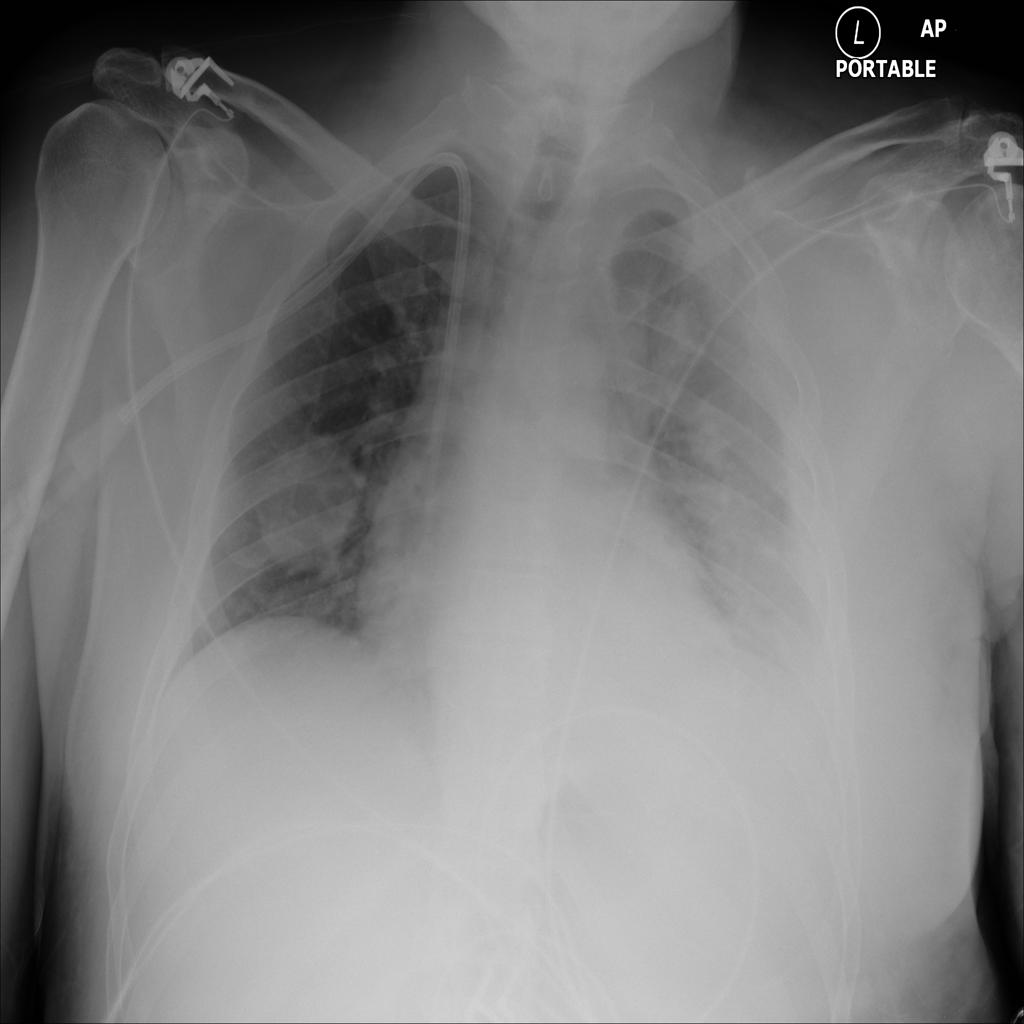nodule: (239, 421, 375, 584)
